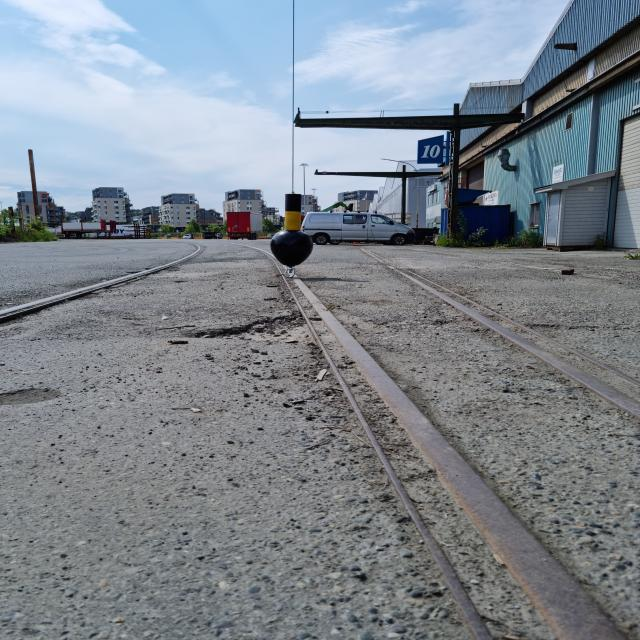east: (268, 194, 314, 268)
